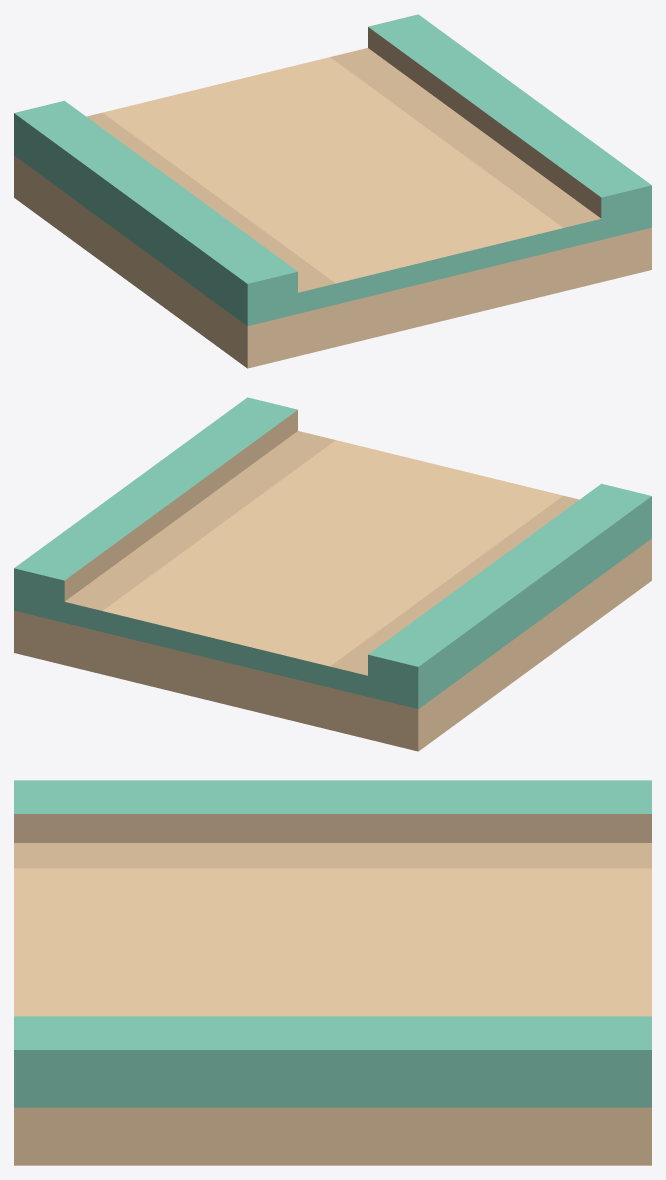
The model's file is tile_straight.glb.
3 views of the same model, one above another, from view 1: azimuth 30°, elevation 25°; view 2: azimuth 150°, elevation 25°; view 3: azimuth 270°, elevation 25° (orthographic). The views are drawn at different scales.
Parts seen in each view (by area): view 1: tile_straight; view 2: tile_straight; view 3: tile_straight.
Boxes of the visible parts, bbox=[...] form: tile_straight: bbox=[14, 14, 651, 368]; tile_straight: bbox=[14, 397, 651, 751]; tile_straight: bbox=[14, 780, 651, 1165].
Size of the model in its own units: 1 by 0.2 by 1.
